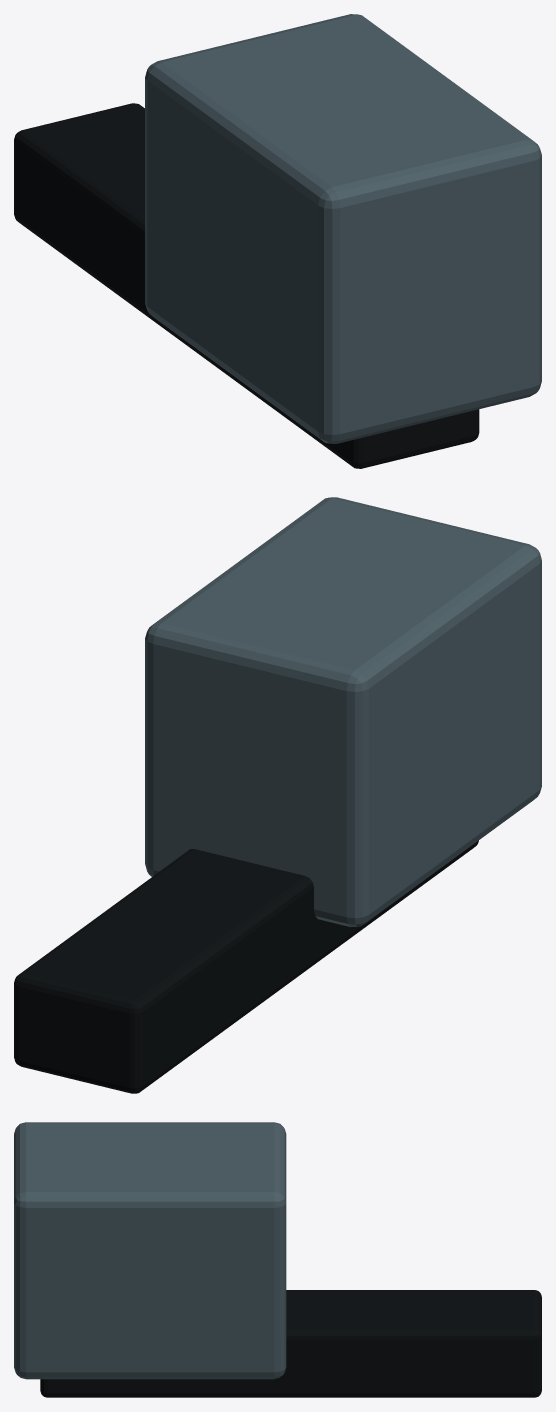
The model's file is carriage_x.obj.
The picture shows the model from 3 angles, top to bottom: view 1: azimuth 30°, elevation 25°; view 2: azimuth 150°, elevation 25°; view 3: azimuth 270°, elevation 25°; orthographic projection. The views are drawn at different scales.
Visible parts, largest first — view 1: flex__carriage_x__carriage, flex__carriage_x__z_guide; view 2: flex__carriage_x__carriage, flex__carriage_x__z_guide; view 3: flex__carriage_x__carriage, flex__carriage_x__z_guide.
Boxes of the visible parts, x1,y1,x2,y2 form: flex__carriage_x__carriage: [145, 14, 541, 443]; flex__carriage_x__z_guide: [14, 103, 479, 468]; flex__carriage_x__carriage: [145, 497, 541, 926]; flex__carriage_x__z_guide: [14, 840, 478, 1093]; flex__carriage_x__carriage: [14, 1122, 286, 1379]; flex__carriage_x__z_guide: [40, 1290, 541, 1397].
Bounding box in the file's own units: 0.078 × 0.1015 × 0.221.
